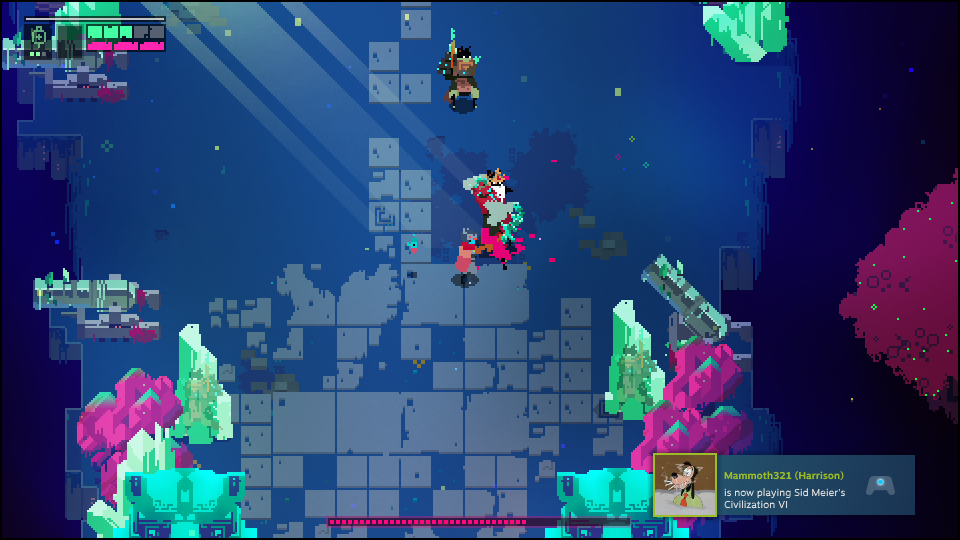hanged_man: (456, 162, 528, 260)
player: (452, 224, 481, 286)
